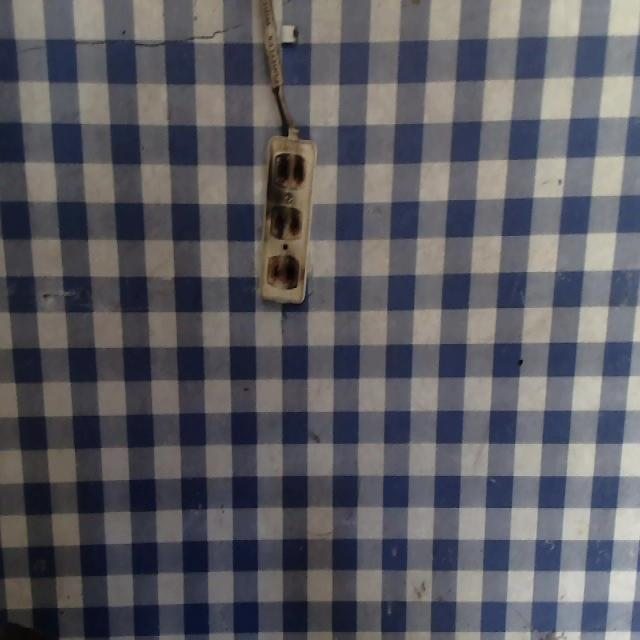-: (264, 144, 312, 193), (261, 249, 309, 296), (269, 197, 311, 247)
